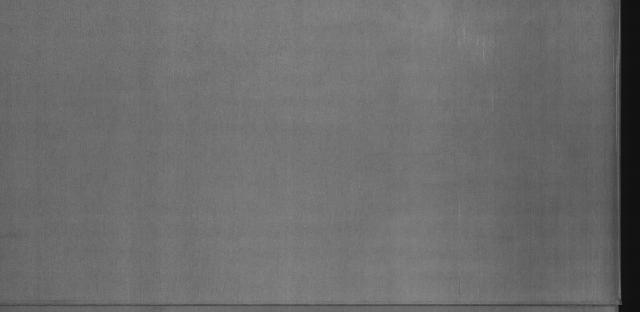welding_line: (3, 301, 636, 310)
